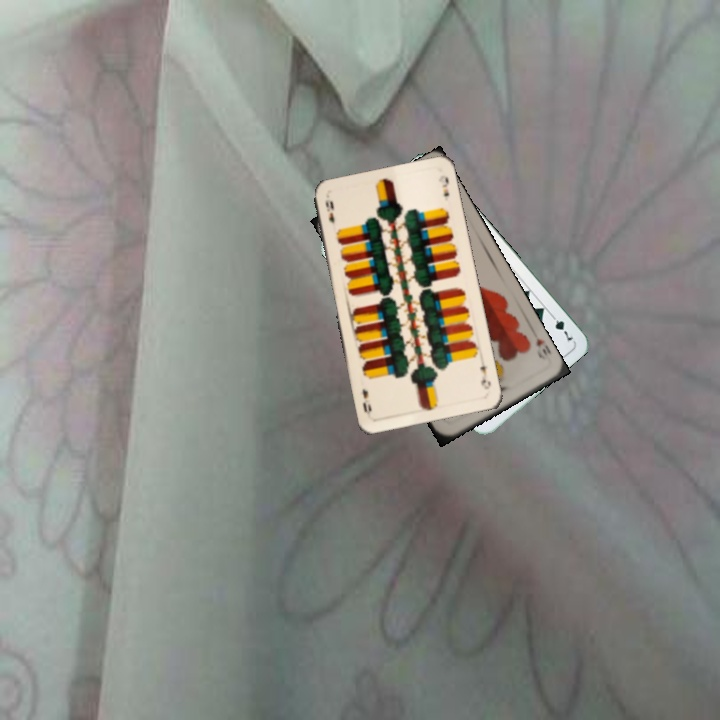E9: (476, 361, 494, 392), (321, 196, 337, 226)
G7: (546, 309, 576, 345)
H10: (528, 327, 553, 363)
